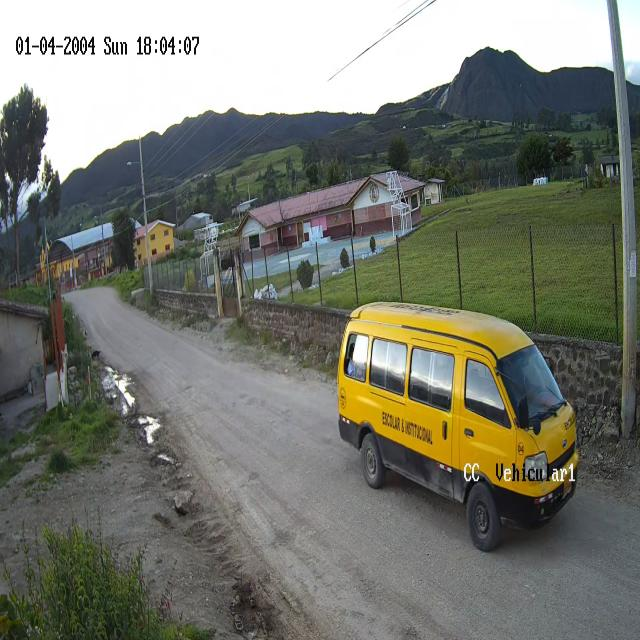BUS: (336, 304, 580, 552)
